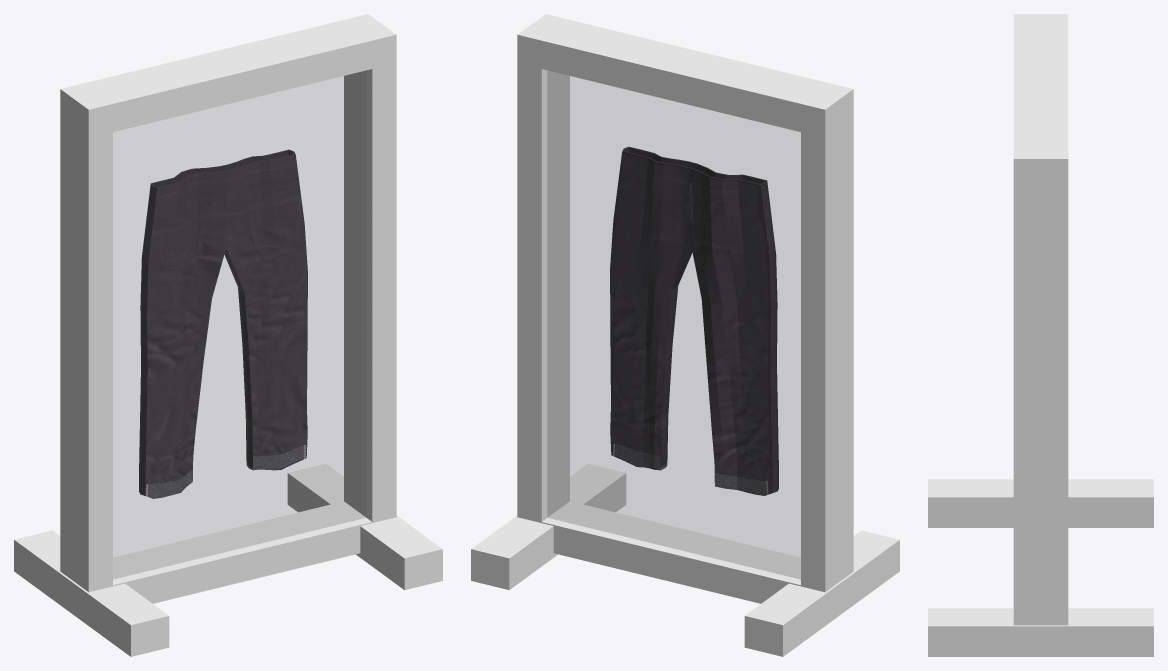
Rendered from inari_black.gltf.
3 views of the same model, side by side, from view 1: azimuth 30°, elevation 25°; view 2: azimuth 150°, elevation 25°; view 3: azimuth 270°, elevation 25° (orthographic). The views are drawn at different scales.
Parts seen in each view (by area): view 1: Cube.115, Plane.021; view 2: Cube.115, Plane.021; view 3: Cube.115.
Part boxes in pixels (box(x1,y1,x2,y2)): Cube.115: box(14, 14, 442, 656); Plane.021: box(139, 149, 307, 498); Cube.115: box(471, 14, 899, 656); Plane.021: box(610, 146, 778, 495); Cube.115: box(928, 14, 1153, 656).
Size of the model in its own units: 0.4462 by 0.7029 by 0.2894.
Materials: 4 (1 with a texture image).
